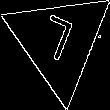L_SW: (37, 12, 81, 71)
